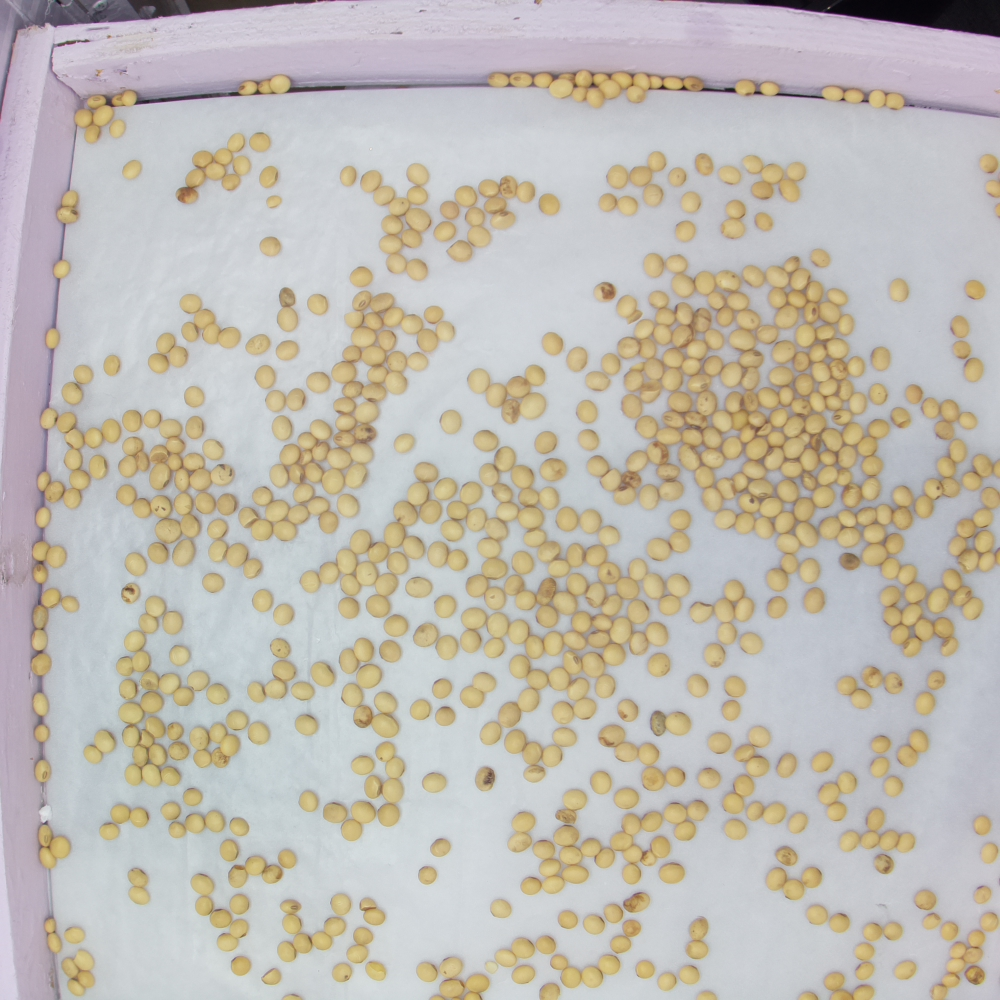soya: (886, 278, 912, 306), (868, 346, 892, 376), (503, 730, 529, 756), (774, 753, 800, 779), (356, 664, 384, 688), (533, 578, 558, 604), (634, 743, 660, 768), (551, 591, 578, 615), (626, 630, 650, 657), (613, 788, 640, 812), (643, 443, 670, 467), (311, 660, 333, 689), (465, 369, 490, 394), (521, 394, 546, 419), (645, 621, 669, 647), (664, 712, 691, 735), (353, 638, 376, 665), (747, 755, 774, 778), (539, 459, 567, 481), (461, 609, 489, 631), (413, 623, 437, 648), (619, 396, 643, 421), (459, 686, 485, 709), (811, 485, 837, 508), (553, 824, 580, 846), (599, 726, 626, 748), (172, 539, 193, 567), (747, 479, 775, 500), (149, 463, 170, 491), (817, 518, 841, 542), (204, 681, 227, 706), (913, 691, 936, 716), (487, 613, 509, 639), (562, 789, 588, 811), (405, 577, 432, 598), (371, 716, 398, 737), (859, 546, 887, 566), (354, 563, 377, 587), (647, 537, 670, 561), (603, 643, 626, 667), (472, 672, 496, 695), (190, 873, 213, 897), (376, 802, 399, 826), (622, 371, 645, 395), (155, 520, 179, 543), (478, 559, 507, 578), (354, 402, 379, 424), (322, 469, 344, 494), (555, 507, 577, 532), (499, 703, 521, 728), (436, 636, 458, 661), (590, 770, 612, 795), (704, 644, 726, 669), (480, 721, 501, 747), (188, 726, 209, 752), (405, 210, 432, 230), (562, 865, 590, 884), (393, 502, 416, 525), (725, 676, 748, 699), (145, 743, 168, 766), (796, 523, 819, 546), (878, 558, 901, 581), (773, 341, 796, 364), (147, 544, 170, 567), (161, 612, 184, 635), (406, 163, 430, 185), (376, 573, 398, 597), (615, 337, 639, 359), (516, 690, 540, 712), (667, 574, 691, 596), (642, 574, 664, 598), (382, 779, 404, 803), (731, 329, 755, 351), (736, 310, 758, 334), (277, 307, 298, 332), (427, 542, 448, 567), (461, 631, 482, 656), (297, 789, 318, 814), (176, 295, 205, 313), (627, 600, 647, 626), (339, 648, 358, 675), (567, 347, 586, 374), (415, 329, 437, 352), (335, 597, 358, 619), (439, 411, 461, 434), (535, 431, 557, 454), (510, 466, 533, 488), (779, 179, 801, 202), (648, 655, 670, 678), (182, 386, 205, 408), (766, 569, 789, 591), (636, 416, 658, 439), (125, 555, 148, 577), (217, 327, 240, 349), (147, 353, 170, 375), (332, 362, 356, 383), (306, 372, 330, 393), (245, 334, 269, 355), (474, 430, 498, 451), (507, 374, 528, 398), (524, 363, 545, 387), (579, 510, 600, 534), (607, 166, 628, 190), (583, 653, 604, 677), (734, 598, 755, 622), (227, 544, 248, 568), (863, 476, 884, 500), (900, 604, 921, 628), (801, 559, 821, 584), (863, 524, 888, 544), (49, 546, 69, 571), (361, 347, 387, 366), (614, 579, 640, 598), (557, 845, 583, 864), (613, 742, 639, 761), (143, 761, 162, 787), (700, 447, 726, 466), (658, 864, 685, 882), (740, 460, 767, 478), (155, 419, 182, 437), (455, 186, 477, 208), (385, 253, 407, 275), (511, 552, 533, 574), (576, 401, 598, 423), (765, 266, 787, 288), (431, 678, 453, 700), (767, 596, 789, 618), (782, 879, 804, 901), (381, 215, 404, 236), (668, 509, 691, 530), (578, 429, 599, 452), (672, 273, 693, 296), (642, 768, 663, 791), (740, 632, 761, 655), (144, 716, 165, 739), (296, 715, 319, 736), (341, 684, 362, 707), (765, 803, 786, 826), (696, 391, 717, 414), (860, 456, 883, 477), (447, 241, 471, 261), (254, 365, 274, 389), (265, 500, 289, 520), (421, 500, 441, 524), (519, 508, 543, 528), (507, 833, 531, 853), (208, 539, 228, 563), (186, 417, 206, 441), (351, 327, 376, 346), (350, 444, 375, 463), (639, 484, 658, 509), (94, 730, 113, 755), (159, 672, 178, 697), (374, 693, 399, 712), (765, 867, 784, 892), (385, 522, 403, 548), (666, 393, 692, 411), (434, 221, 456, 242), (351, 266, 373, 287), (434, 478, 456, 499), (585, 544, 606, 566), (565, 572, 587, 593), (575, 699, 597, 720), (688, 675, 709, 697), (323, 802, 344, 824), (884, 534, 906, 555), (829, 360, 851, 381), (839, 422, 860, 444), (811, 751, 832, 773), (169, 644, 191, 665), (60, 383, 82, 404), (539, 541, 559, 564), (422, 773, 445, 793), (511, 813, 534, 833), (559, 967, 582, 987), (439, 957, 462, 977), (210, 909, 233, 929), (881, 776, 904, 796), (904, 583, 927, 603), (688, 375, 715, 392), (491, 211, 515, 230), (496, 446, 515, 470), (490, 484, 514, 503), (467, 574, 486, 598), (720, 220, 744, 239), (715, 598, 734, 622), (724, 821, 748, 840), (836, 529, 860, 548), (965, 358, 984, 382), (272, 415, 290, 440), (612, 617, 630, 642), (159, 801, 184, 819), (768, 367, 793, 385), (374, 186, 395, 207), (402, 314, 423, 335), (386, 372, 407, 393), (367, 596, 388, 617), (460, 482, 481, 503), (483, 588, 504, 609), (681, 192, 702, 213), (618, 700, 639, 721), (666, 803, 687, 824), (330, 894, 351, 915), (229, 817, 250, 838), (227, 710, 248, 731), (910, 731, 931, 752), (540, 194, 560, 216), (372, 293, 394, 313), (415, 463, 437, 483), (350, 530, 370, 552), (387, 552, 407, 574), (538, 487, 558, 509), (468, 509, 488, 531), (643, 185, 663, 207), (434, 595, 454, 617), (429, 838, 451, 858), (747, 726, 769, 746), (733, 774, 753, 796), (674, 821, 696, 841), (230, 956, 252, 976), (182, 787, 204, 807), (119, 703, 141, 723), (140, 693, 162, 713), (128, 744, 148, 766), (271, 639, 291, 661), (180, 515, 200, 537), (202, 440, 224, 460), (374, 741, 396, 761), (861, 668, 881, 690), (660, 369, 682, 389), (703, 355, 723, 377), (878, 587, 900, 607), (929, 589, 949, 611), (949, 316, 971, 336), (156, 331, 176, 353), (378, 329, 397, 352), (336, 550, 355, 573), (405, 536, 424, 559), (440, 521, 463, 540), (544, 632, 563, 655), (510, 621, 529, 644), (553, 701, 572, 724), (581, 836, 600, 859), (717, 623, 736, 646), (512, 938, 535, 957), (684, 939, 707, 958), (351, 801, 374, 820), (869, 757, 892, 776), (696, 271, 714, 295), (695, 153, 713, 177), (511, 655, 529, 679), (553, 728, 577, 746), (806, 588, 822, 615), (775, 535, 799, 553), (866, 808, 884, 832), (402, 229, 423, 249), (407, 259, 427, 280), (259, 237, 280, 257), (318, 512, 338, 533), (447, 549, 467, 570), (485, 519, 506, 539), (660, 481, 681, 501), (600, 353, 621, 373), (630, 167, 651, 187), (667, 167, 687, 188), (743, 265, 763, 286), (563, 652, 583, 673), (569, 678, 589, 699), (595, 849, 615, 870), (723, 794, 743, 815), (622, 863, 642, 884), (276, 942, 297, 962), (218, 933, 239, 953), (194, 896, 214, 917), (49, 837, 70, 857), (172, 686, 193, 706), (248, 722, 268, 743), (190, 469, 211, 489), (340, 821, 361, 841), (898, 565, 919, 585), (716, 478, 736, 499), (775, 512, 796, 532), (818, 302, 839, 322), (804, 414, 825, 434), (901, 637, 921, 658), (787, 813, 807, 834), (803, 866, 823, 887), (806, 906, 827, 926), (897, 745, 917, 766), (953, 585, 973, 606), (980, 488, 1000, 509), (893, 509, 913, 530), (469, 228, 491, 247), (380, 235, 402, 254), (644, 254, 663, 276), (676, 221, 695, 243), (761, 164, 783, 183), (596, 675, 615, 697), (484, 638, 506, 657), (659, 595, 681, 614), (708, 734, 730, 753), (205, 811, 224, 833), (160, 764, 179, 786), (169, 348, 188, 370), (543, 332, 562, 354), (712, 411, 731, 433), (745, 439, 767, 458), (754, 517, 773, 539), (848, 393, 867, 415), (116, 485, 138, 504), (149, 497, 171, 516), (259, 165, 277, 188), (319, 562, 337, 585), (486, 383, 504, 406), (477, 540, 500, 558), (716, 273, 739, 291), (538, 859, 561, 877), (722, 362, 740, 385), (780, 479, 798, 502), (104, 354, 122, 377), (704, 488, 721, 512), (758, 499, 782, 516), (499, 175, 515, 200), (264, 391, 284, 411), (676, 301, 692, 326), (435, 706, 455, 726), (533, 839, 553, 859), (650, 837, 670, 857), (600, 955, 620, 975), (417, 962, 437, 982), (362, 909, 387, 925), (253, 590, 273, 610), (195, 493, 215, 513), (817, 467, 837, 487), (818, 784, 838, 804), (837, 831, 857, 851), (895, 833, 915, 853), (943, 570, 963, 590), (74, 365, 94, 385), (360, 170, 379, 191), (308, 294, 327, 315), (338, 495, 357, 516), (301, 571, 320, 592), (446, 501, 467, 520), (538, 606, 557, 627), (587, 457, 608, 476), (588, 371, 609, 390), (786, 162, 807, 181), (752, 183, 773, 202), (527, 671, 548, 690), (543, 747, 564, 766), (524, 744, 543, 765), (621, 814, 640, 835), (641, 812, 662, 831), (621, 844, 642, 863), (292, 932, 311, 953), (168, 743, 189, 762), (758, 388, 779, 407), (736, 513, 755, 534), (916, 619, 935, 640), (116, 456, 137, 475), (64, 431, 85, 450), (174, 494, 193, 515), (146, 597, 165, 618), (125, 631, 146, 650), (406, 186, 428, 204), (384, 306, 402, 328), (480, 463, 498, 485), (565, 543, 583, 565), (599, 561, 617, 583), (628, 450, 646, 472), (550, 667, 568, 689), (583, 916, 605, 934), (583, 966, 601, 988), (513, 966, 535, 984), (265, 681, 287, 699), (723, 436, 741, 458), (827, 802, 849, 820), (878, 829, 896, 851), (363, 384, 386, 401), (587, 582, 604, 605), (629, 559, 646, 582), (615, 296, 638, 313), (905, 382, 922, 405), (870, 383, 887, 406), (941, 399, 958, 422), (204, 324, 221, 347), (717, 167, 741, 183), (364, 775, 380, 799), (839, 770, 855, 794), (250, 133, 270, 152), (517, 182, 536, 202), (440, 200, 459, 220), (352, 291, 372, 310), (407, 352, 427, 371), (409, 484, 428, 504), (310, 420, 330, 439), (279, 444, 298, 464), (504, 575, 523, 595), (602, 595, 621, 615), (724, 579, 743, 599), (721, 701, 740, 721), (699, 768, 719, 787), (686, 801, 706, 820), (603, 904, 623, 923), (557, 910, 577, 929), (679, 966, 699, 985), (229, 919, 248, 939), (186, 814, 205, 834), (764, 448, 783, 468), (784, 438, 804, 457), (888, 625, 908, 644), (961, 598, 981, 617), (973, 510, 993, 529), (894, 486, 913, 506), (122, 411, 141, 431), (142, 409, 162, 428), (388, 350, 406, 371), (276, 341, 297, 359), (740, 155, 761, 173), (791, 269, 809, 290), (411, 699, 429, 720), (612, 831, 633, 849), (667, 766, 685, 787), (703, 331, 724, 349), (100, 420, 118, 441), (191, 311, 218, 325), (517, 489, 539, 506), (524, 529, 546, 546), (648, 151, 665, 173), (524, 766, 546, 783), (131, 809, 148, 831), (186, 674, 208, 691), (125, 764, 142, 786), (203, 575, 225, 592), (731, 410, 748, 432), (779, 460, 801, 477), (90, 456, 107, 478), (69, 471, 91, 488), (115, 656, 132, 678), (494, 503, 517, 519), (564, 632, 587, 648), (221, 840, 237, 863), (292, 683, 315, 699), (949, 439, 965, 462), (481, 197, 507, 211), (185, 170, 204, 189), (282, 914, 301, 933), (275, 605, 294, 624), (858, 436, 877, 455), (139, 615, 158, 634), (181, 322, 200, 341), (192, 150, 212, 168), (275, 522, 295, 540), (289, 504, 307, 524), (341, 576, 361, 594), (516, 592, 536, 610), (670, 533, 688, 553), (617, 197, 637, 215), (491, 900, 511, 918), (111, 805, 131, 823), (123, 725, 138, 749), (220, 734, 238, 754), (856, 507, 876, 525), (664, 349, 682, 369), (724, 391, 742, 411), (741, 494, 759, 514), (769, 409, 789, 427), (800, 450, 818, 470), (881, 607, 899, 627), (935, 617, 953, 637), (925, 479, 943, 499), (227, 135, 248, 152), (478, 180, 499, 197), (342, 381, 363, 398), (288, 389, 305, 410), (647, 291, 668, 308), (665, 255, 686, 272), (417, 867, 438, 884), (274, 662, 295, 679), (833, 676, 854, 693), (696, 467, 713, 488), (885, 673, 902, 694), (915, 495, 932, 516), (334, 415, 356, 431), (271, 465, 287, 487), (526, 637, 542, 659), (468, 975, 490, 991), (247, 682, 263, 704), (352, 757, 374, 773), (922, 396, 938, 418), (867, 421, 890, 436), (162, 437, 185, 452), (232, 157, 251, 175), (466, 207, 484, 226), (635, 320, 654, 338), (598, 194, 617, 212), (726, 201, 745, 219), (347, 945, 366, 963), (166, 723, 184, 742), (243, 561, 262, 579), (747, 804, 765, 823), (703, 429, 721, 448), (758, 325, 776, 344), (861, 831, 879, 850), (830, 913, 848, 932), (884, 923, 903, 941), (966, 281, 985, 299), (334, 398, 354, 415), (370, 543, 387, 563), (600, 526, 620, 543), (543, 877, 563, 894), (141, 671, 158, 691), (715, 511, 735, 528), (928, 671, 945, 691), (935, 421, 955, 438), (809, 249, 829, 266), (86, 428, 103, 448), (293, 485, 314, 501), (549, 559, 570, 575), (520, 878, 541, 894), (838, 313, 852, 337), (184, 454, 205, 470), (39, 590, 60, 606), (333, 432, 355, 447), (726, 294, 748, 309), (588, 632, 610, 647), (122, 439, 144, 454), (424, 305, 442, 323), (368, 365, 386, 383), (396, 435, 414, 453), (658, 973, 676, 991), (84, 745, 102, 763), (688, 340, 706, 358), (947, 536, 965, 554), (941, 478, 959, 496), (960, 411, 978, 429), (132, 499, 150, 517), (344, 311, 363, 328), (364, 313, 383, 330), (572, 613, 589, 632), (768, 287, 787, 304), (325, 918, 344, 935), (385, 761, 404, 778), (796, 376, 813, 395), (809, 392, 826, 411), (794, 401, 813, 418), (870, 736, 889, 753), (647, 359, 661, 382), (438, 320, 454, 340), (169, 822, 189, 838), (120, 680, 136, 700), (149, 447, 169, 463), (851, 693, 872, 708), (739, 353, 763, 366), (656, 430, 684, 441), (253, 487, 270, 505), (707, 291, 725, 308), (735, 745, 753, 762), (537, 937, 555, 954), (636, 960, 653, 978), (781, 555, 798, 573), (864, 923, 881, 941), (854, 964, 871, 982), (956, 519, 973, 537), (963, 472, 980, 490), (953, 340, 970, 358), (305, 463, 321, 482), (307, 497, 326, 513), (99, 823, 118, 839), (799, 329, 815, 348), (785, 418, 804, 434), (938, 458, 954, 477), (878, 505, 893, 525), (807, 282, 822, 302), (134, 650, 148, 671), (390, 198, 407, 215), (208, 724, 225, 741), (682, 358, 699, 375), (730, 472, 747, 489), (344, 346, 362, 362), (789, 291, 807, 307), (612, 937, 630, 953), (353, 709, 371, 725), (838, 511, 856, 527), (828, 288, 846, 304), (805, 307, 821, 325), (855, 945, 873, 961), (822, 975, 846, 987), (940, 638, 958, 654), (854, 987, 876, 1000), (592, 615, 612, 629), (749, 412, 766, 428), (64, 490, 81, 506), (62, 596, 79, 612), (213, 150, 231, 165), (298, 432, 316, 447), (783, 257, 801, 272), (139, 729, 153, 748), (849, 358, 863, 377), (199, 750, 210, 774), (341, 166, 354, 186), (755, 214, 772, 229), (743, 392, 758, 409), (177, 469, 188, 492), (289, 465, 303, 483), (829, 411, 850, 423), (841, 378, 853, 399), (549, 955, 568, 968), (824, 394, 841, 408), (768, 432, 785, 446), (64, 452, 81, 466), (206, 165, 224, 178), (828, 990, 851, 1000), (780, 387, 792, 406), (826, 345, 848, 355), (797, 992, 816, 1000)
